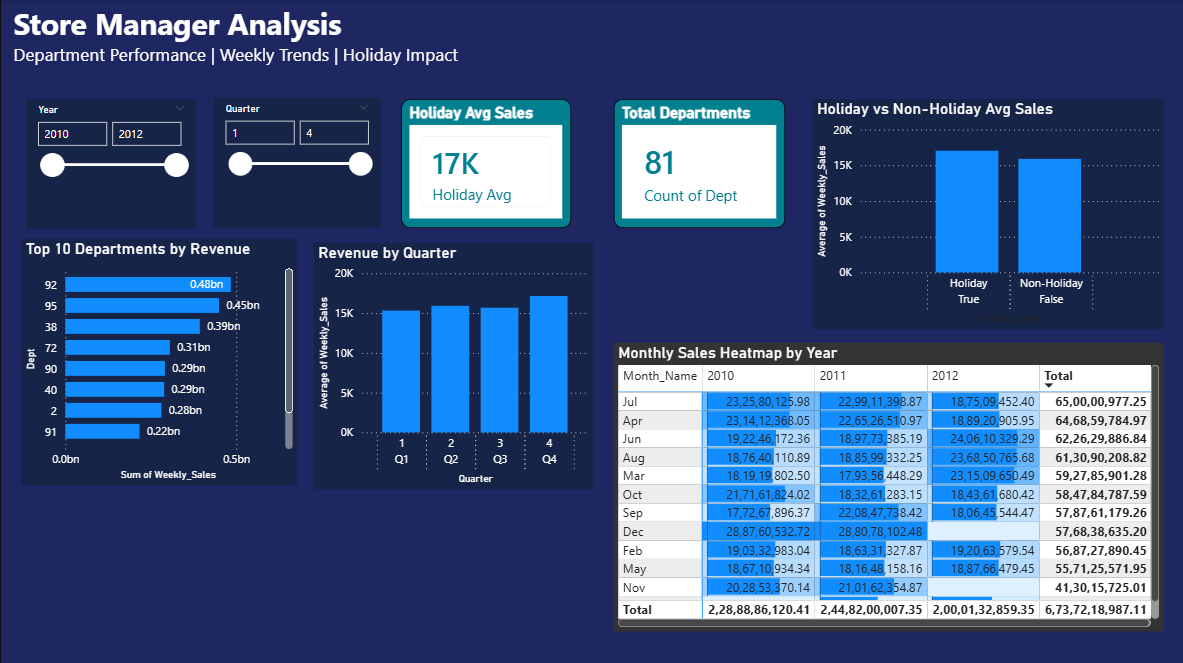

Layout of this report page (visuals, bound fields, positions):
{"tool":"powerbi","page":{"name":"Store Manager Analysis","canvas":[1280,720],"ordinal":1},"visuals":[{"type":"textbox","box":[9.6,0,1270.7,82.3],"z":0},{"type":"cardVisual","title":"Total Departments","fields":{"Data":["Count(master_cleaned.Dept)"]},"box":[661.7,107.8,184.6,138.8],"z":1000},{"type":"cardVisual","title":"Holiday Avg Sales","fields":{"Data":["master_cleaned.Holiday Avg"]},"box":[432.6,107.8,183.3,138.8],"z":2000},{"type":"slicer","fields":{"Values":["master_cleaned.Year"]},"box":[28.3,107.8,183.3,138.8],"z":3000},{"type":"slicer","fields":{"Values":["master_cleaned.Quarter"]},"box":[230.4,106.5,179.2,138.8],"z":4000},{"type":"clusteredBarChart","title":"Top 10 Departments by Revenue","fields":{"Category":["master_cleaned.Dept"],"Y":["Sum(master_cleaned.Weekly_Sales)"]},"box":[22.9,258.8,297.8,265.5],"z":5000},{"type":"clusteredColumnChart","title":"Holiday vs Non-Holiday Avg Sales","fields":{"Category":["master_cleaned.IsHoliday_x","master_cleaned.Holiday Label"],"Y":["Avg(master_cleaned.Weekly_Sales)"]},"box":[876,107.8,378.7,248],"z":6000},{"type":"clusteredColumnChart","title":"Revenue by Quarter","fields":{"Y":["Avg(master_cleaned.Weekly_Sales)"],"Category":["master_cleaned.Quarter Label","master_cleaned.Quarter"]},"box":[338.3,262.8,301.9,265.5],"z":7000},{"type":"pivotTable","title":"Monthly Sales Heatmap by Year","fields":{"Rows":["master_cleaned.Month_Name"],"Columns":["master_cleaned.Year"],"Values":["Sum(master_cleaned.Weekly_Sales)"]},"box":[661.7,370.6,593,311.3],"z":7001}]}

Visuals, with their boxes in screenshot pixels (x1, y1, x2, y2), scaled from the page's 1280x720 canvas onto the 1183x663 screenshot:
textbox: (x1=9, y1=0, x2=1182, y2=76)
"Total Departments" cardVisual: (x1=612, y1=99, x2=782, y2=227)
"Holiday Avg Sales" cardVisual: (x1=400, y1=99, x2=569, y2=227)
slicer - master_cleaned.Year: (x1=26, y1=99, x2=196, y2=227)
slicer - master_cleaned.Quarter: (x1=213, y1=98, x2=379, y2=226)
"Top 10 Departments by Revenue" clusteredBarChart: (x1=21, y1=238, x2=296, y2=483)
"Holiday vs Non-Holiday Avg Sales" clusteredColumnChart: (x1=810, y1=99, x2=1160, y2=328)
"Revenue by Quarter" clusteredColumnChart: (x1=313, y1=242, x2=592, y2=486)
"Monthly Sales Heatmap by Year" pivotTable: (x1=612, y1=341, x2=1160, y2=628)
